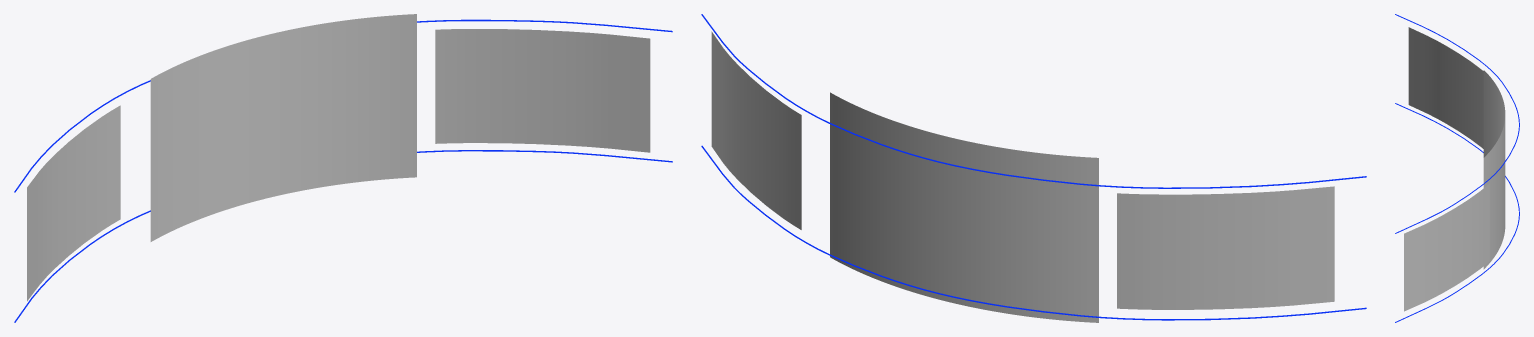
Rendered from Lit Lines.fbx.
The picture shows the model from 3 angles, left to right: view 1: azimuth 30°, elevation 25°; view 2: azimuth 150°, elevation 25°; view 3: azimuth 270°, elevation 25°; orthographic projection. The views are drawn at different scales.
Parts seen in each view (by area): view 1: sc f, back projection wall003, back projection wall002; view 2: sc f, back projection wall002, back projection wall003; view 3: sc f, back projection wall003, back projection wall002.
Boxes of the visible parts, bbox=[...] form: sc f: bbox=[27, 14, 650, 301]; back projection wall003: bbox=[14, 19, 672, 192]; back projection wall002: bbox=[14, 150, 672, 322]; sc f: bbox=[711, 31, 1334, 322]; back projection wall002: bbox=[701, 145, 1366, 320]; back projection wall003: bbox=[701, 14, 1366, 188]; sc f: bbox=[1404, 27, 1505, 311]; back projection wall003: bbox=[1395, 14, 1519, 233]; back projection wall002: bbox=[1395, 103, 1519, 322].
Size of the model in its own units: 927 by 220 by 223.
